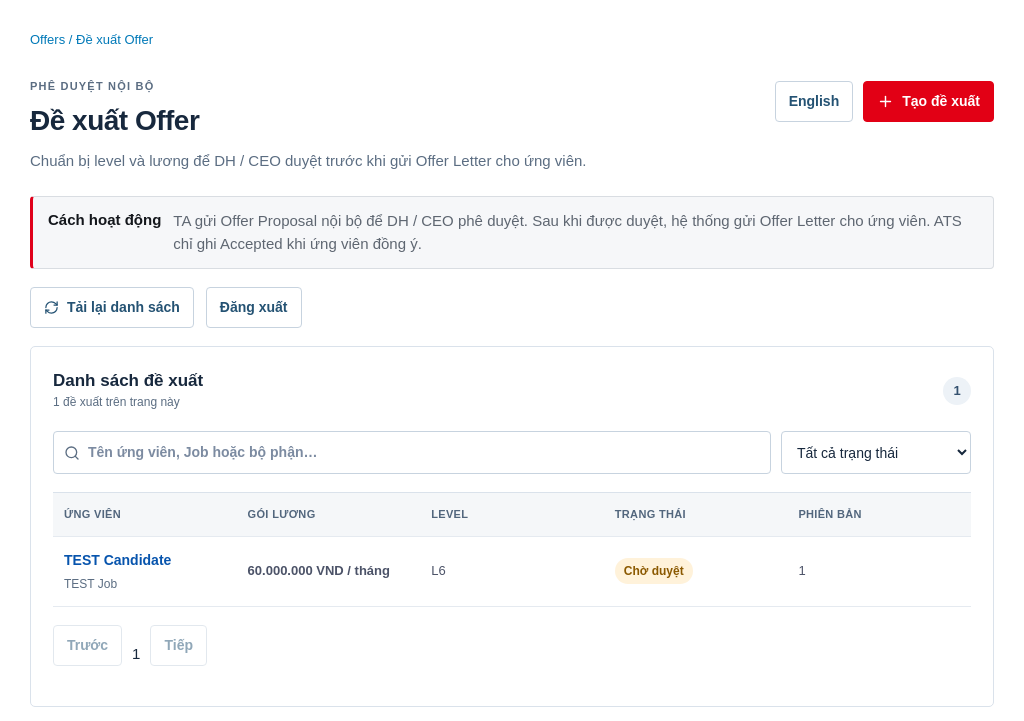
it: recruiter explicitly opens the composer and retains unsaved fields after closing
Click the button "Tạo đề xuất": (929, 101) [863, 80, 994, 122]
(page scrolled)
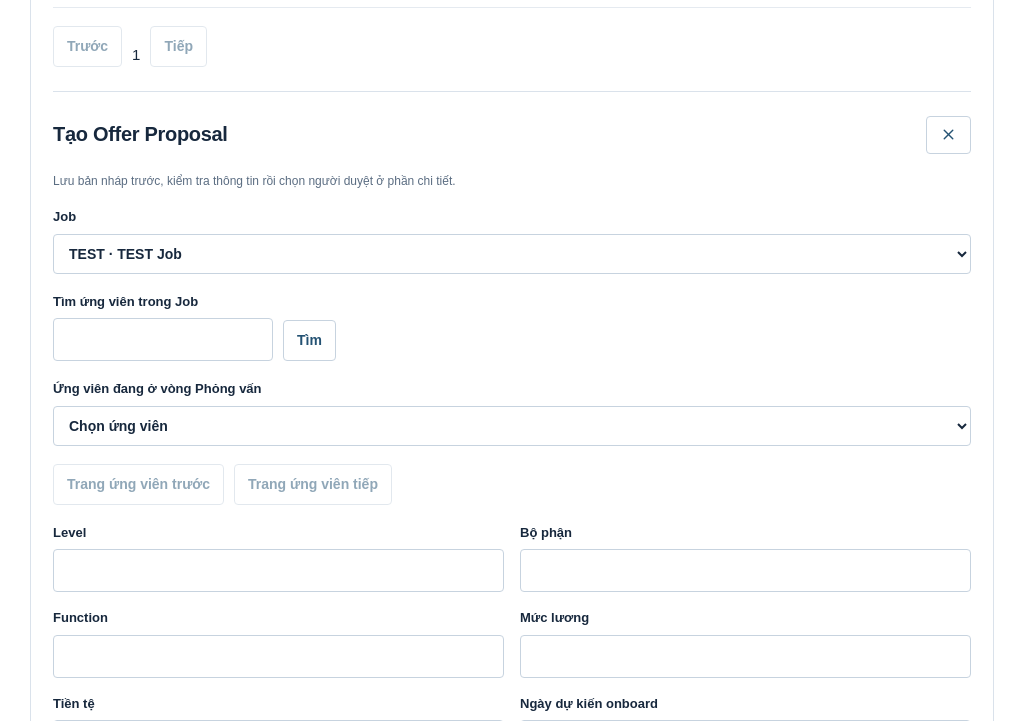
In the field labelled "Level": (278, 571) [53, 549, 504, 592], type "L52"
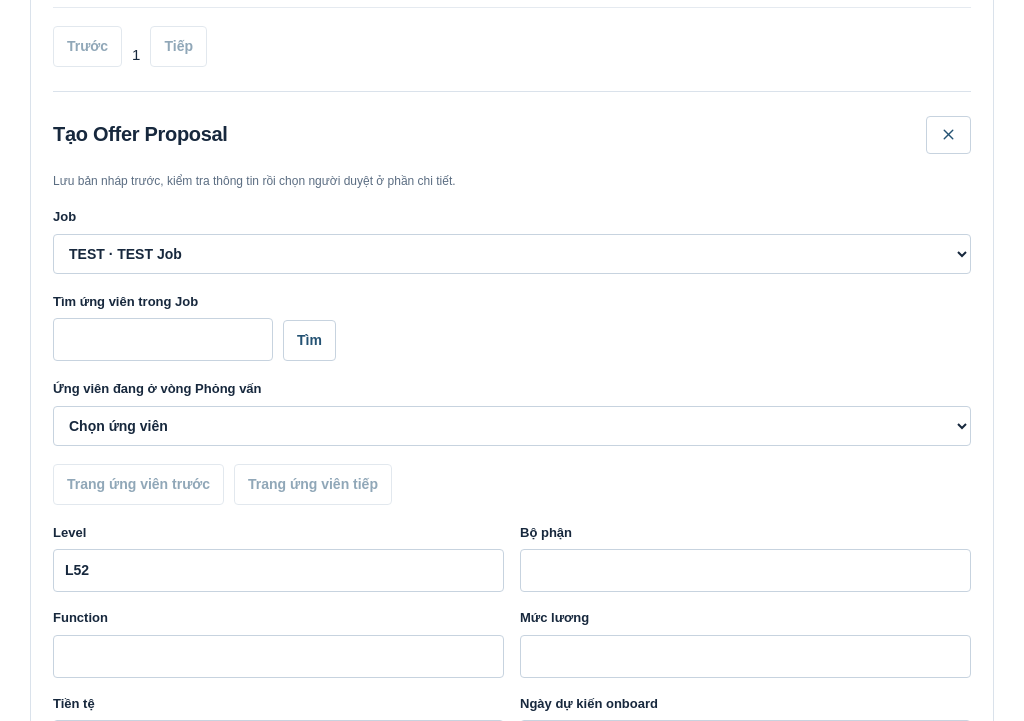
Click the button named "Đóng form đề xuất": (948, 134) [926, 116, 971, 154]
(page scrolled)
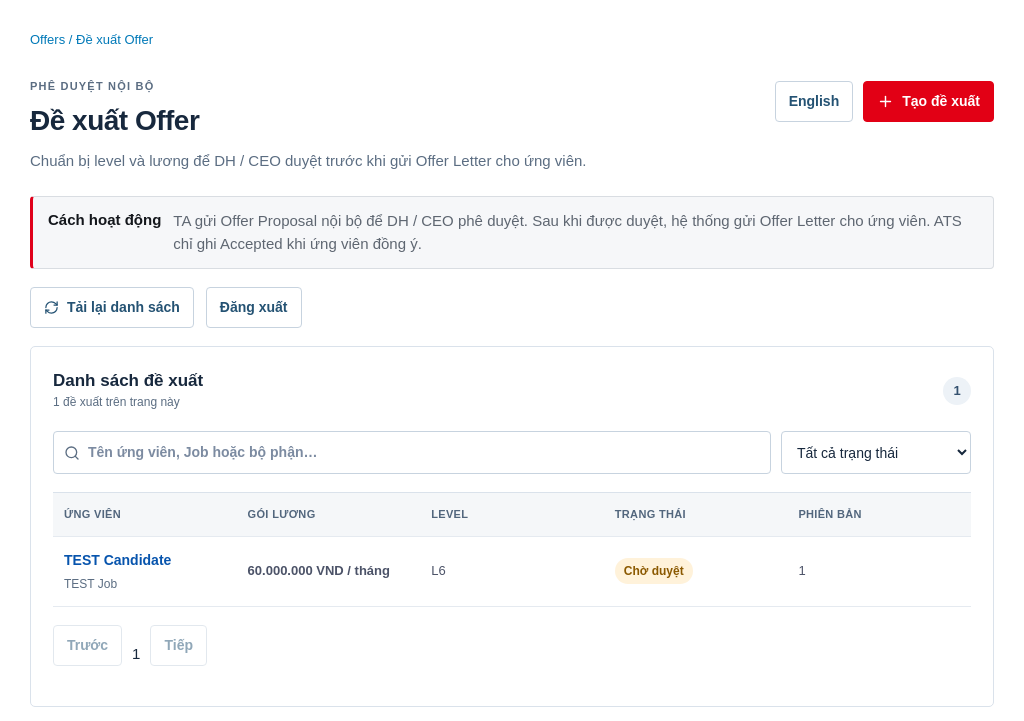
Click the button "Tạo đề xuất": (929, 101) [863, 80, 994, 122]
(page scrolled)
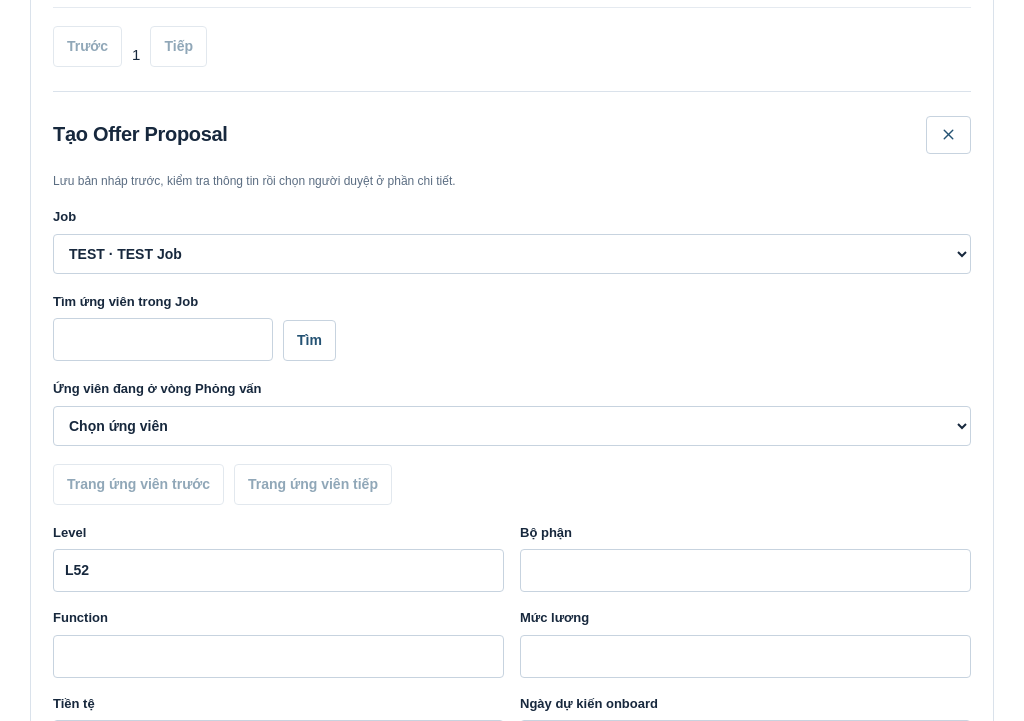
Expected: the field labelled "Level" holds "L52", [53, 549, 504, 592]
